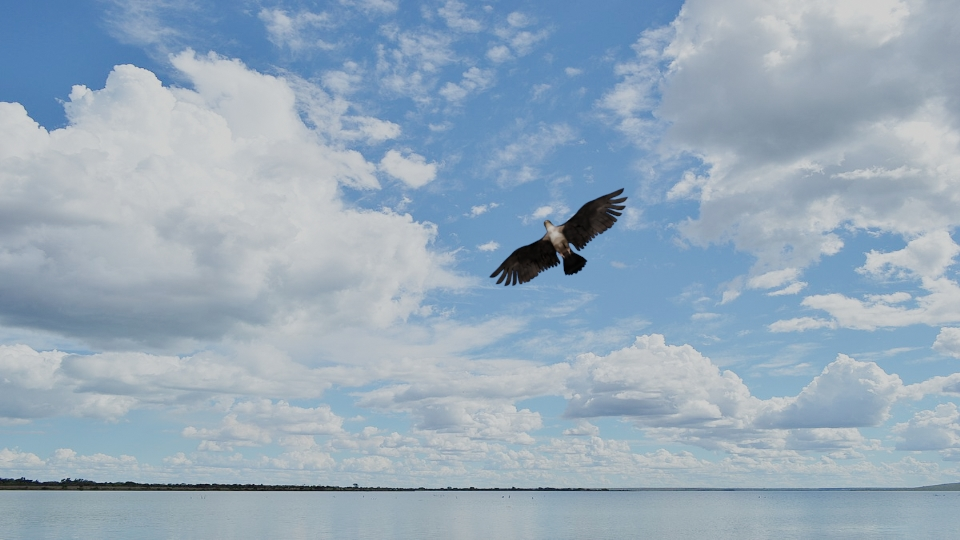bird: (492, 184, 626, 288)
